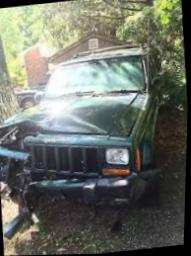Bonnet: (0, 92, 147, 136)
Bumper: (0, 170, 139, 213)
Light: (0, 126, 22, 184)
